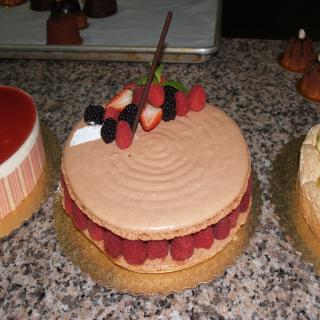Bread: (61, 144, 251, 241), (59, 186, 252, 274), (0, 126, 47, 220), (296, 122, 320, 240)
Cake: (60, 76, 252, 274), (0, 85, 47, 218), (296, 124, 320, 242)
Strawberry: (146, 74, 171, 108), (123, 237, 151, 266), (101, 231, 127, 261), (173, 76, 192, 115), (141, 240, 173, 261), (188, 81, 210, 111), (213, 209, 232, 242), (172, 239, 198, 263), (195, 226, 215, 253), (115, 120, 129, 152), (226, 202, 242, 230), (87, 219, 104, 241), (237, 186, 249, 216), (72, 206, 86, 228), (134, 81, 146, 106), (105, 105, 120, 122), (62, 192, 71, 213), (246, 176, 254, 194), (60, 172, 65, 196)
